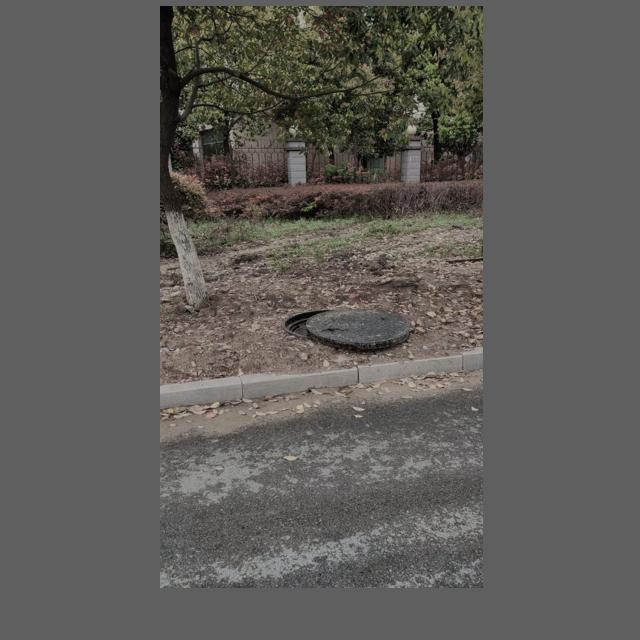uncovered: (274, 292, 415, 352)
